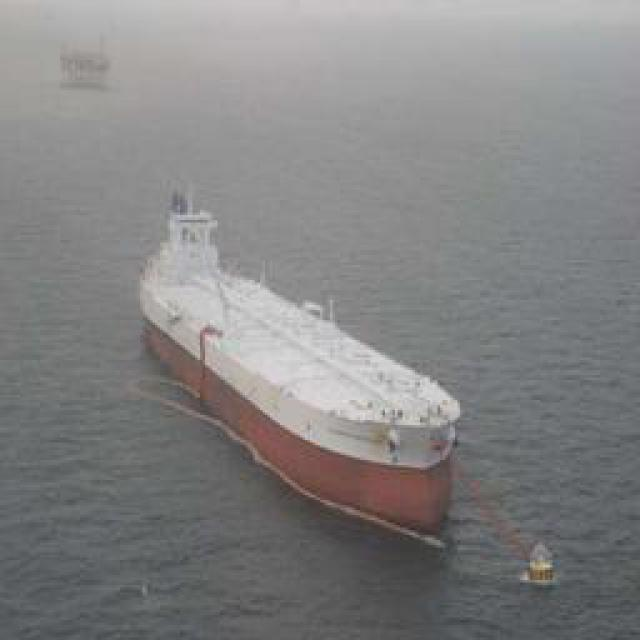Ship: (147, 195, 460, 533)
